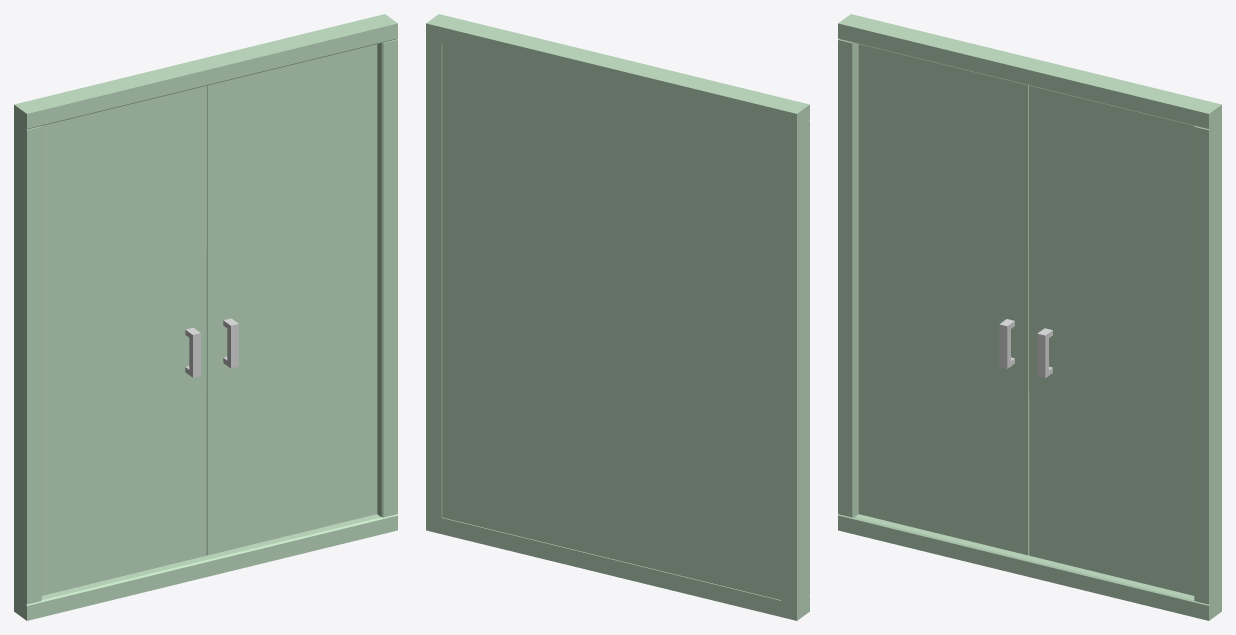
Rendered from mod_door_double.glb.
The picture shows the model from 3 angles, left to right: view 1: azimuth 30°, elevation 25°; view 2: azimuth 150°, elevation 25°; view 3: azimuth 330°, elevation 25°; orthographic projection.
Visible parts, largest first — view 1: leaf_minor, leaf_main, frame_left, frame_top, frame_right, treshold, handle_minor, handle; view 2: leaf_minor, leaf_main, frame_left, frame_top, frame_right, treshold; view 3: leaf_main, leaf_minor, frame_right, frame_top, frame_left, treshold, handle, handle_minor.
Boxes of the visible parts, x1=… form: leaf_minor: x1=206, y1=44, x2=377, y2=555; leaf_main: x1=41, y1=85, x2=206, y2=595; frame_left: x1=14, y1=121, x2=41, y2=604; frame_top: x1=14, y1=14, x2=397, y2=129; frame_right: x1=377, y1=39, x2=397, y2=517; treshold: x1=14, y1=514, x2=397, y2=620; handle_minor: x1=223, y1=318, x2=238, y2=368; handle: x1=185, y1=327, x2=200, y2=377; leaf_minor: x1=442, y1=44, x2=611, y2=558; leaf_main: x1=612, y1=85, x2=781, y2=599; frame_left: x1=781, y1=121, x2=809, y2=604; frame_top: x1=426, y1=14, x2=809, y2=130; frame_right: x1=426, y1=40, x2=442, y2=517; treshold: x1=426, y1=514, x2=809, y2=620; leaf_main: x1=858, y1=44, x2=1029, y2=555; leaf_minor: x1=1029, y1=85, x2=1194, y2=595; frame_right: x1=1194, y1=121, x2=1221, y2=604; frame_top: x1=838, y1=14, x2=1221, y2=129; frame_left: x1=838, y1=39, x2=858, y2=517; treshold: x1=838, y1=514, x2=1221, y2=620; handle: x1=999, y1=319, x2=1014, y2=368; handle_minor: x1=1037, y1=328, x2=1052, y2=378.
Size of the model in its own units: 1.66 by 2.17 by 0.1179.
